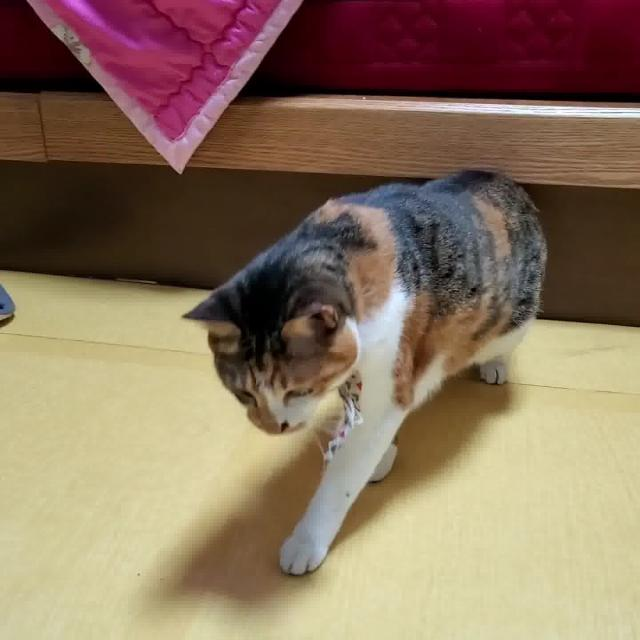cat: (171, 159, 555, 576)
